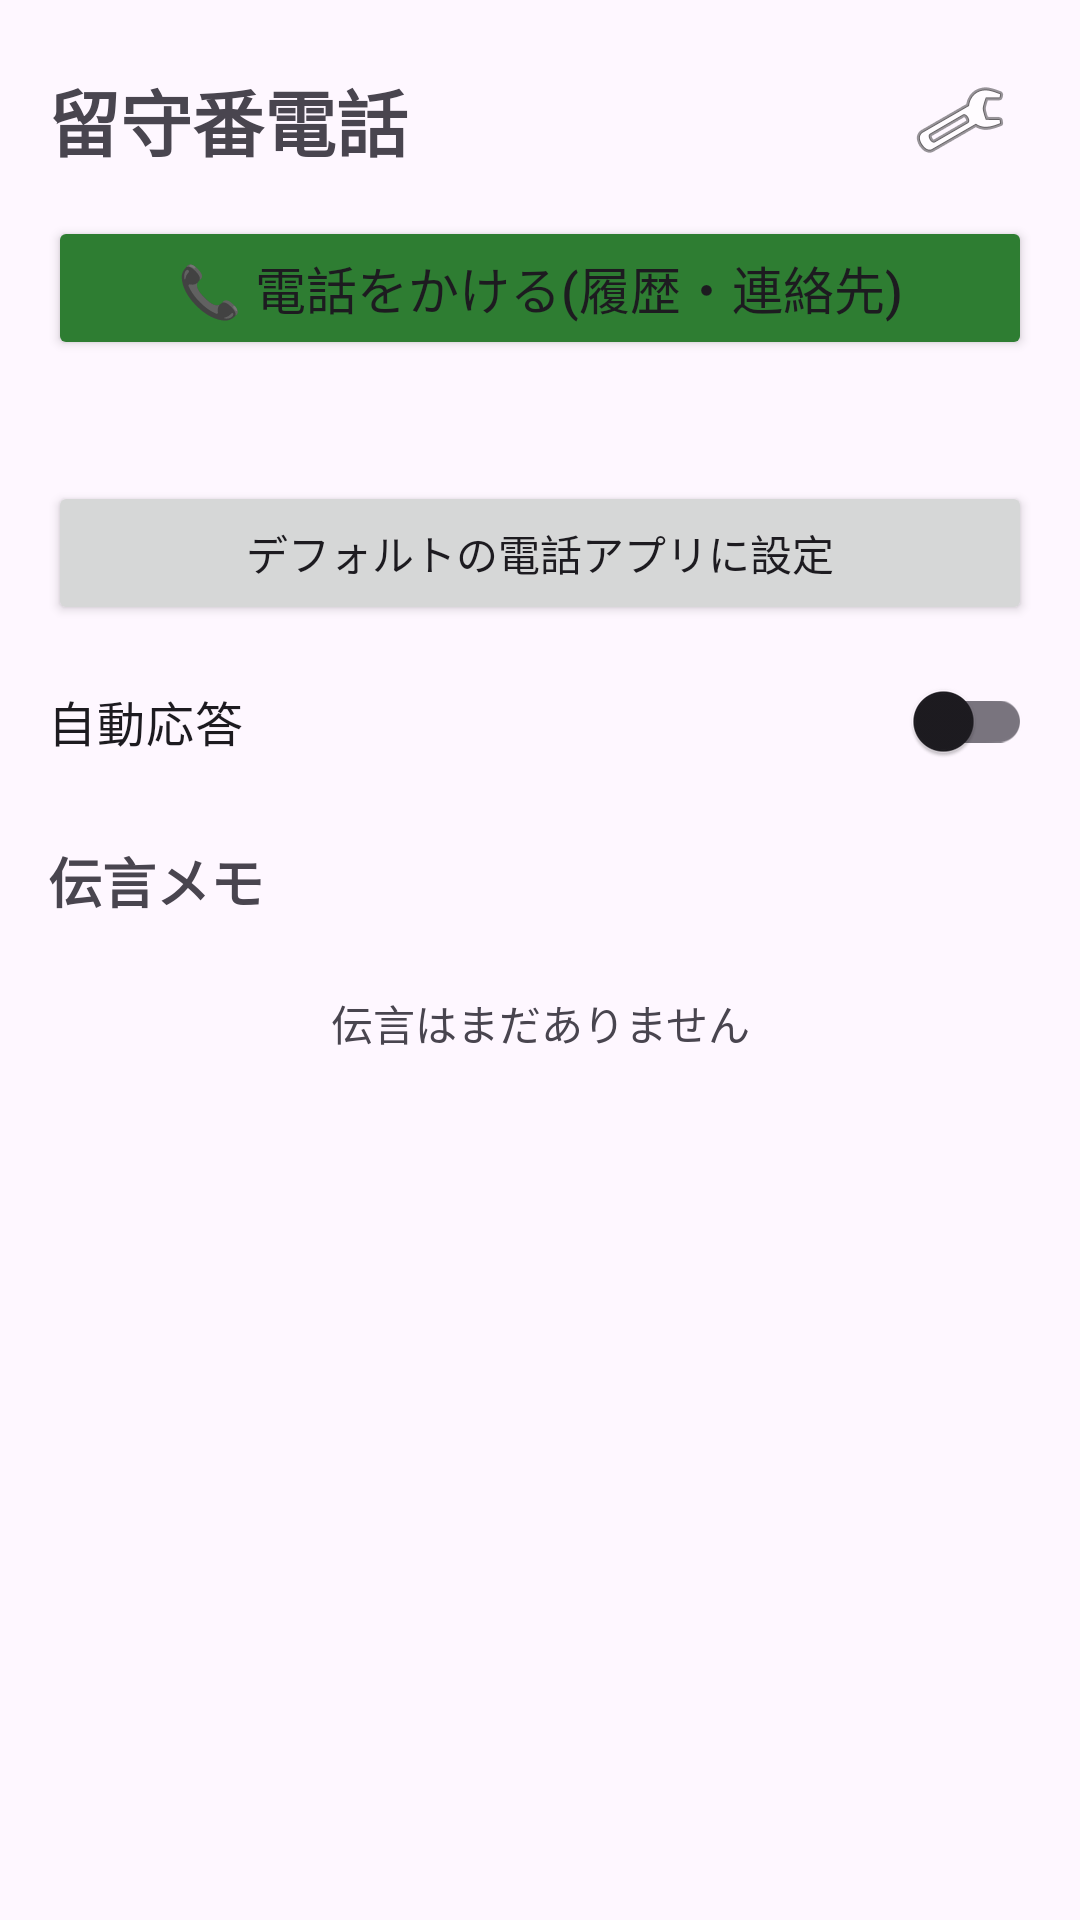

Where to tap for icons on this 1080 × 1920 app screen, as [x,y]:
設定: [960,120]
